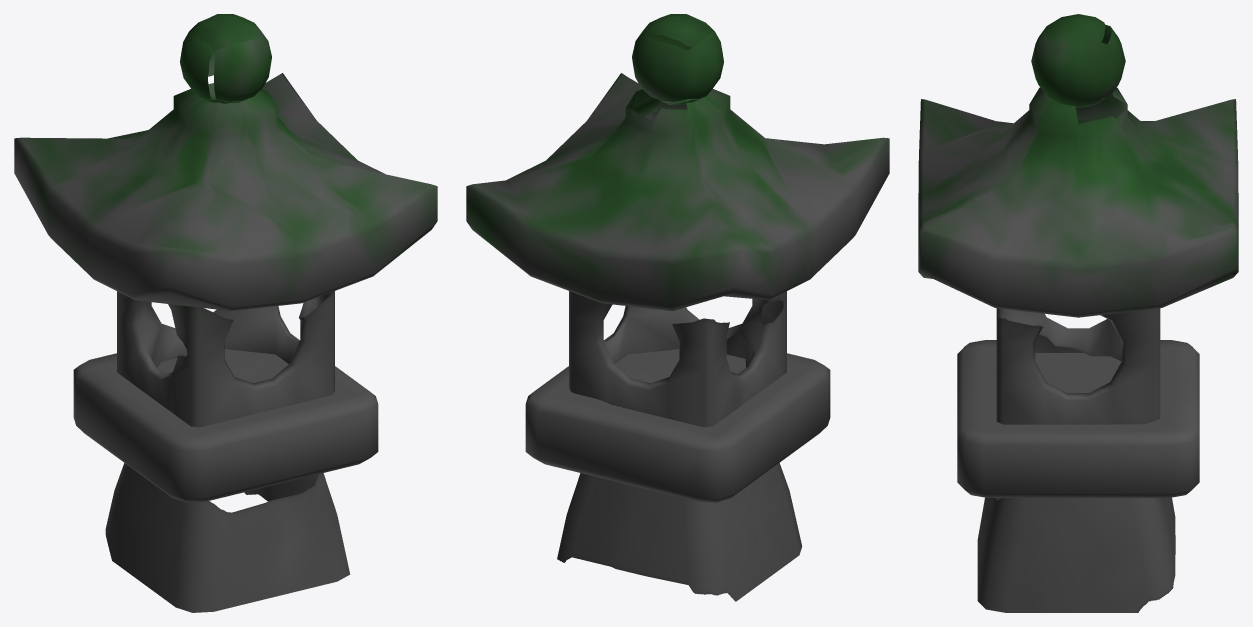
Rendered from LanternaCemiterio.fbx.
3 renders of one model, left to right at view 1: azimuth 30°, elevation 25°; view 2: azimuth 150°, elevation 25°; view 3: azimuth 270°, elevation 25°, orthographic.
Visible parts, largest first — view 1: LanternaCemiterio_LOD0; view 2: LanternaCemiterio_LOD0; view 3: LanternaCemiterio_LOD0.
Boxes of the visible parts, x1,y1,x2,y2 form: LanternaCemiterio_LOD0: (14,14,437,612); LanternaCemiterio_LOD0: (466,14,889,601); LanternaCemiterio_LOD0: (918,14,1238,612).
Size of what is drawn, in the model's own units: 41.53 by 79.02 by 41.53.
